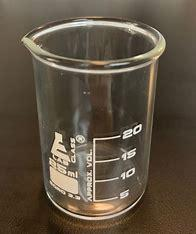Beaker: (21, 12, 163, 222)
